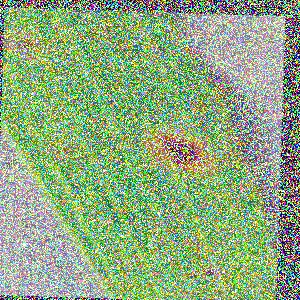Bacterial_Leaf_Blight: (143, 123, 218, 182), (149, 96, 180, 111), (192, 264, 219, 279), (16, 38, 37, 52), (126, 252, 147, 266), (56, 145, 75, 158)
